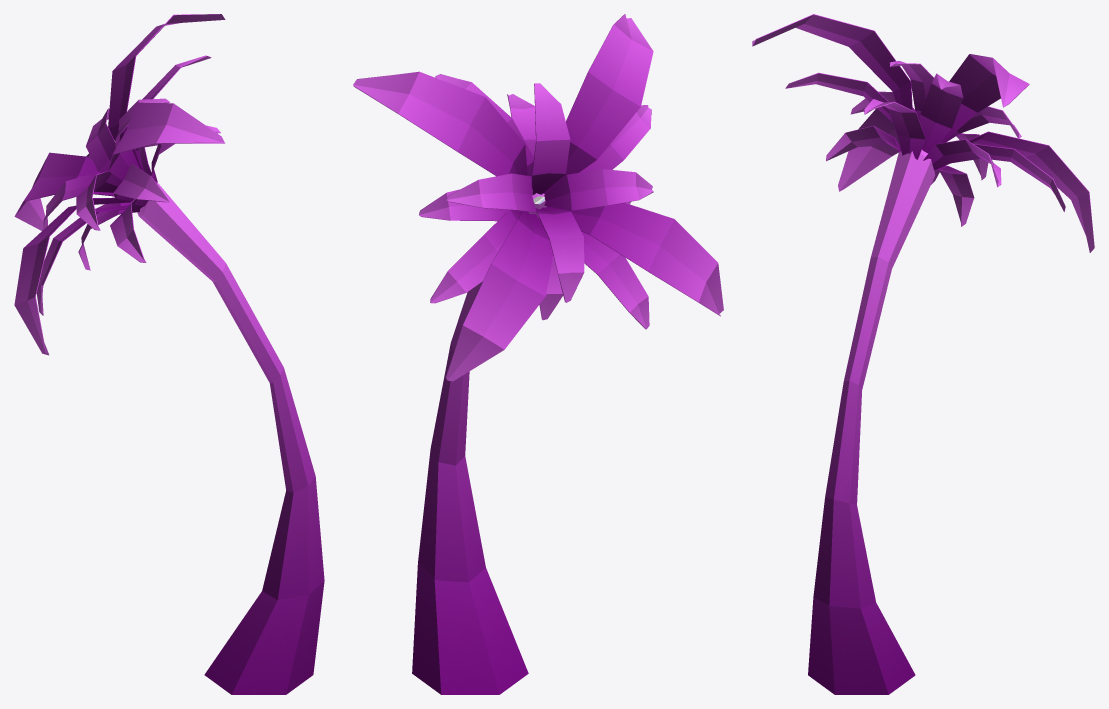
The model's file is miami_palm_003.FBX.
3 renders of one model, left to right at view 1: azimuth 30°, elevation 25°; view 2: azimuth 150°, elevation 25°; view 3: azimuth 270°, elevation 25°, orthographic. The views are drawn at different scales.
Parts seen in each view (by area): view 1: palm 002; view 2: palm 002; view 3: palm 002.
Boxes of the visible parts, x1=… form: palm 002: x1=14, y1=14, x2=324, y2=694; palm 002: x1=353, y1=14, x2=723, y2=694; palm 002: x1=752, y1=14, x2=1094, y2=694.
Size of the model in its own units: 137 by 289 by 148.
